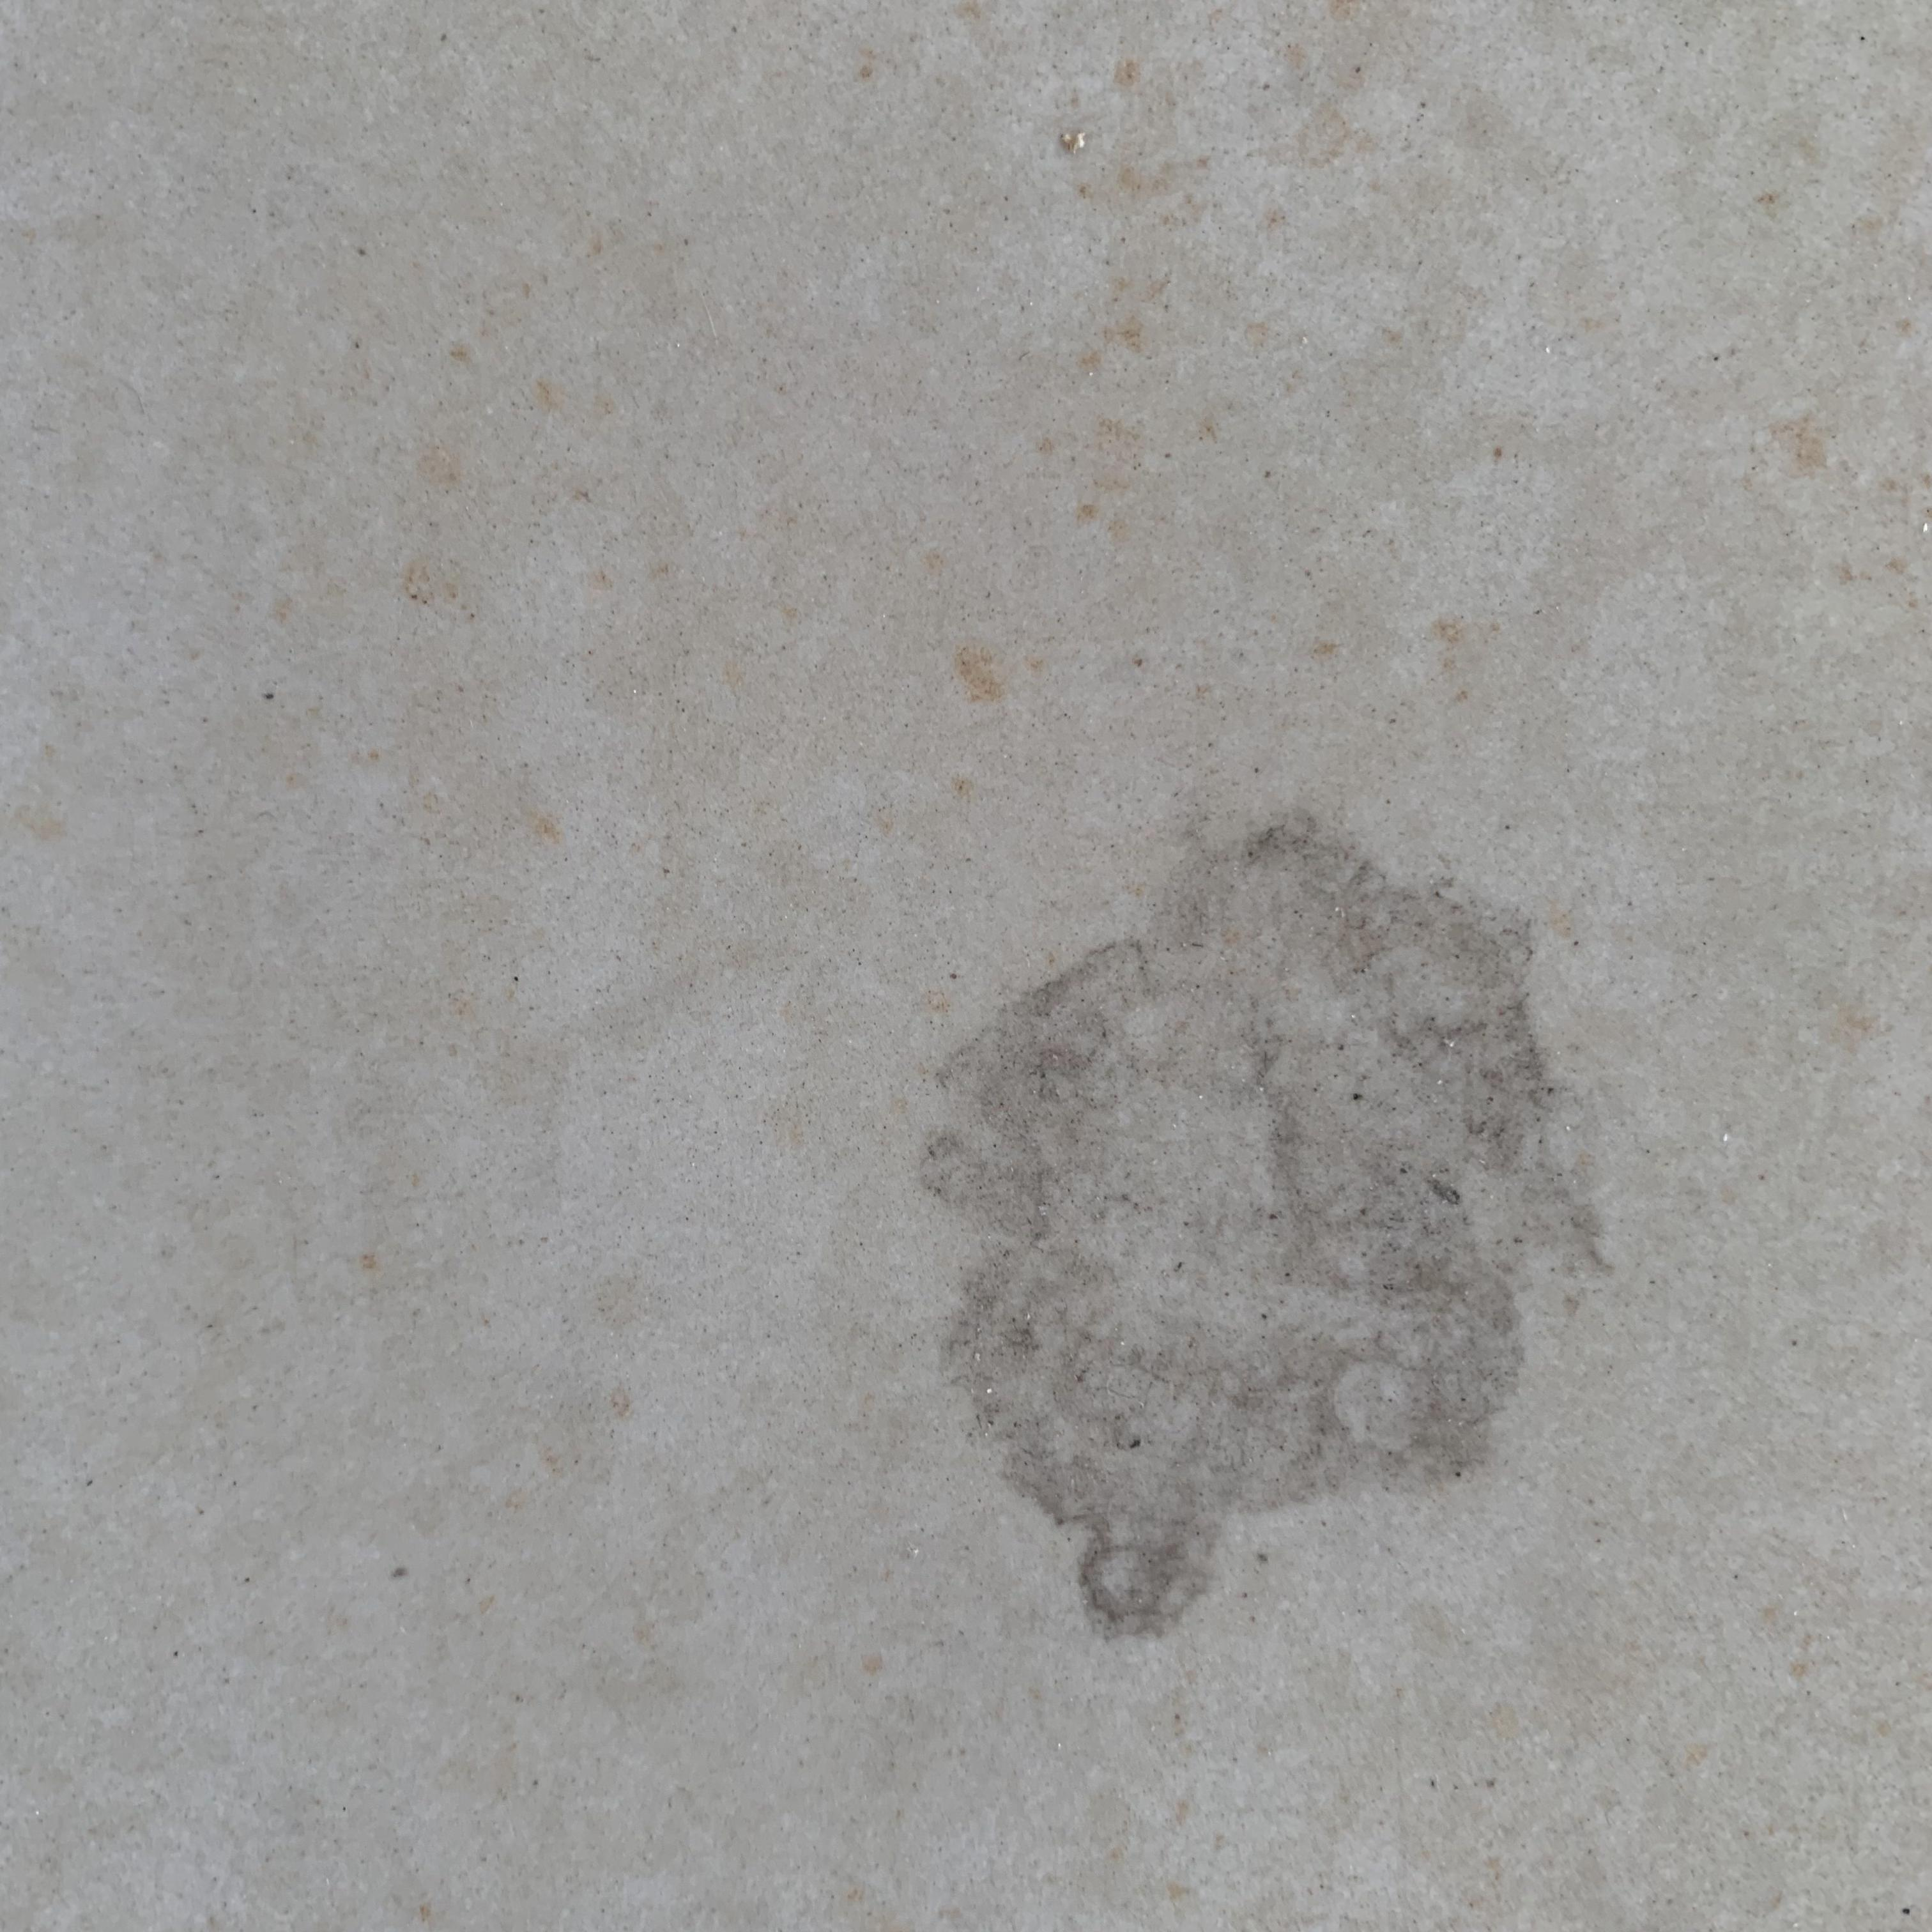grey spot: (920, 823, 1614, 1642)
